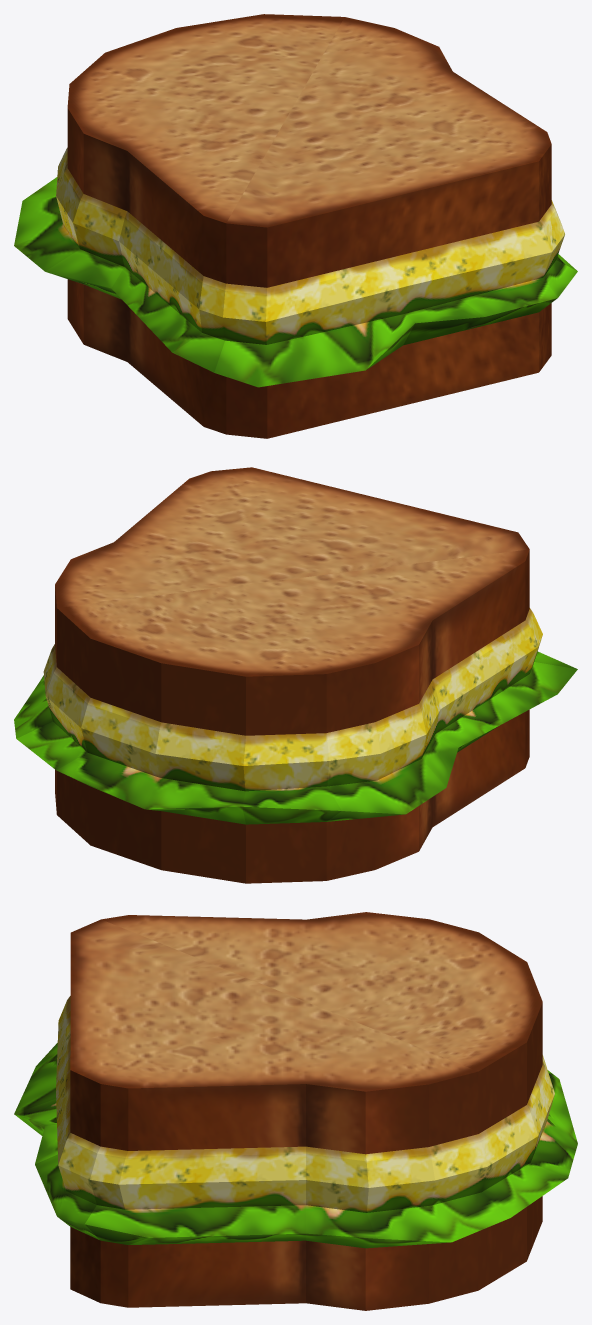
Rendered from 007-Sandwich_Egg.FBX.
3 views of the same model, one above another, from view 1: azimuth 30°, elevation 25°; view 2: azimuth 150°, elevation 25°; view 3: azimuth 270°, elevation 25° (orthographic). The views are drawn at different scales.
Visible parts, largest first — view 1: 007-Sandwich_Egg; view 2: 007-Sandwich_Egg; view 3: 007-Sandwich_Egg.
Part boxes in pixels (x1=…): 007-Sandwich_Egg: x1=14, y1=14, x2=577, y2=438; 007-Sandwich_Egg: x1=14, y1=467, x2=577, y2=883; 007-Sandwich_Egg: x1=14, y1=912, x2=577, y2=1310.
Size of the model in its own units: 19.72 by 9.34 by 21.78.
